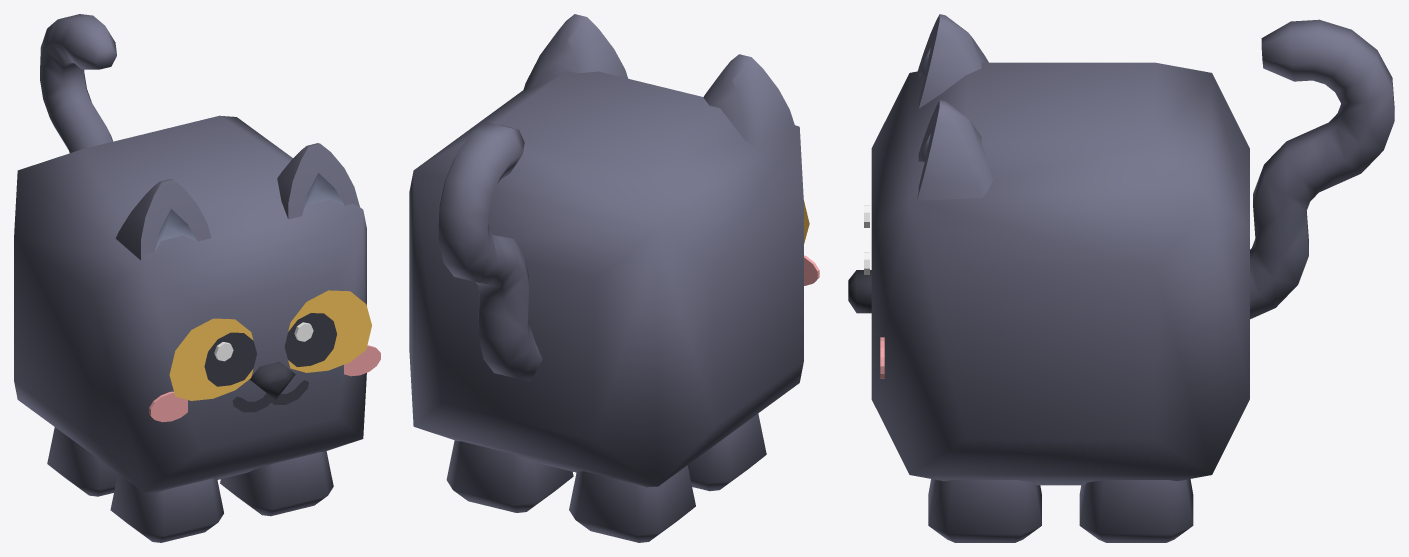
Rendered from cat.glb.
3 views of the same model, side by side, from view 1: azimuth 30°, elevation 25°; view 2: azimuth 150°, elevation 25°; view 3: azimuth 270°, elevation 25° (orthographic). The views are drawn at different scales.
Parts seen in each view (by area): view 1: body, tail, leg-front-right, leg-front-left, leg-back-right, Group; view 2: body, tail, leg-back-right, leg-back-left, leg-front-right; view 3: body, tail, leg-back-left, leg-front-left.
Boxes of the visible parts, bbox=[...] form: body: bbox=[14, 115, 380, 493]; tail: bbox=[40, 14, 116, 152]; leg-front-right: bbox=[110, 473, 223, 542]; leg-front-left: bbox=[220, 451, 333, 516]; leg-back-right: bbox=[47, 427, 117, 496]; Group: bbox=[232, 380, 308, 412]; body: bbox=[409, 14, 819, 487]; tail: bbox=[438, 122, 542, 380]; leg-back-right: bbox=[569, 465, 695, 542]; leg-back-left: bbox=[446, 440, 573, 512]; leg-front-right: bbox=[687, 413, 766, 491]; body: bbox=[848, 14, 1249, 485]; tail: bbox=[1250, 19, 1394, 319]; leg-back-left: bbox=[1079, 479, 1193, 542]; leg-front-left: bbox=[928, 479, 1041, 542].
Size of the model in its own units: 1.25 by 1.71 by 1.81.
Materials: 1 (1 with a texture image).
